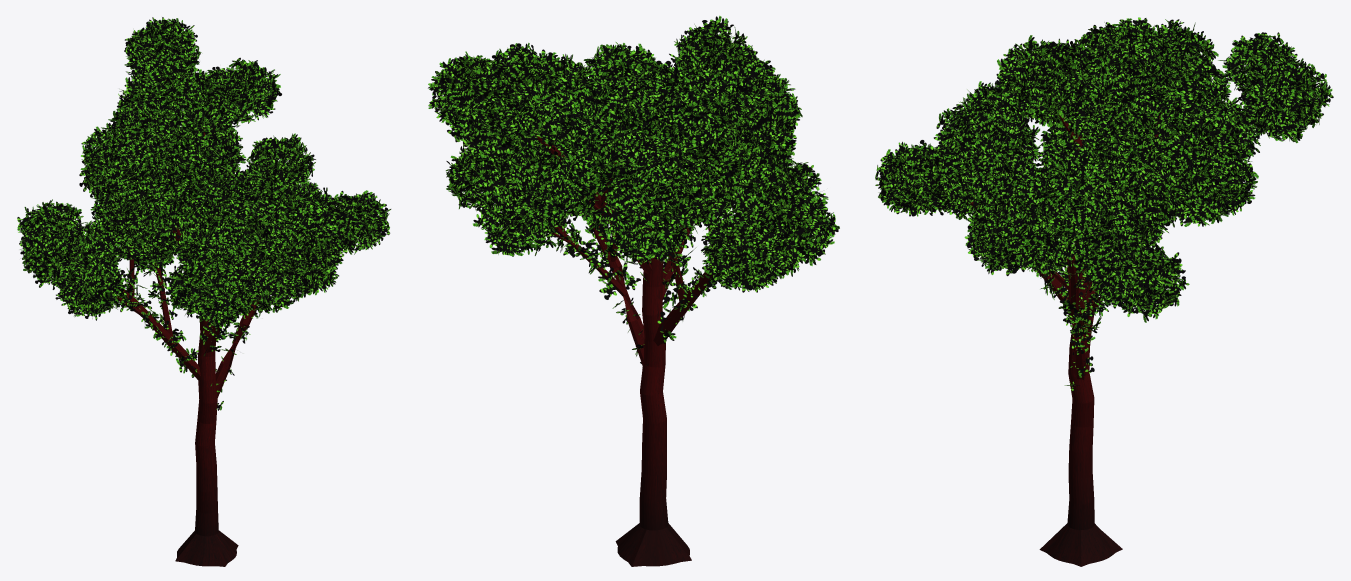
The model's file is emergent_fig_v01.glb.
3 renders of one model, left to right at view 1: azimuth 30°, elevation 25°; view 2: azimuth 150°, elevation 25°; view 3: azimuth 270°, elevation 25°, orthographic. The views are drawn at different scales.
Parts seen in each view (by area): view 1: emergent_fig_v01; view 2: emergent_fig_v01; view 3: emergent_fig_v01.
Part boxes in pixels (bbox=[...]): emergent_fig_v01: bbox=[17, 17, 390, 566]; emergent_fig_v01: bbox=[428, 15, 839, 566]; emergent_fig_v01: bbox=[875, 17, 1333, 566].
Size of the model in its own units: 29.08 by 42.63 by 33.36.
Materials: 2 (2 with a texture image).
